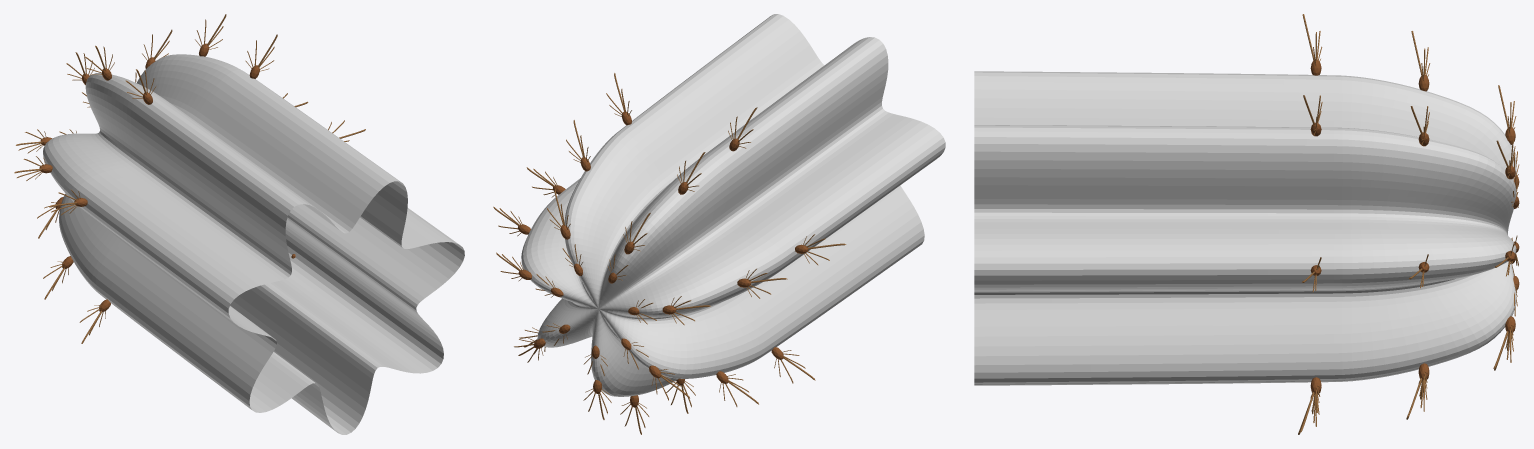
The model's file is frame-048.glb.
3 renders of one model, left to right at view 1: azimuth 30°, elevation 25°; view 2: azimuth 150°, elevation 25°; view 3: azimuth 270°, elevation 25°, orthographic. The views are drawn at different scales.
Parts seen in each view (by area): view 1: WACHUMA_Pachanoi_Frame_048; view 2: WACHUMA_Pachanoi_Frame_048; view 3: WACHUMA_Pachanoi_Frame_048.
Part boxes in pixels (box(x1,y1,x2,y2)): WACHUMA_Pachanoi_Frame_048: box(14, 14, 464, 434); WACHUMA_Pachanoi_Frame_048: box(493, 14, 945, 434); WACHUMA_Pachanoi_Frame_048: box(974, 14, 1519, 434).
Bounding box in the file's own units: 1.15 × 1.12 × 1.46.
